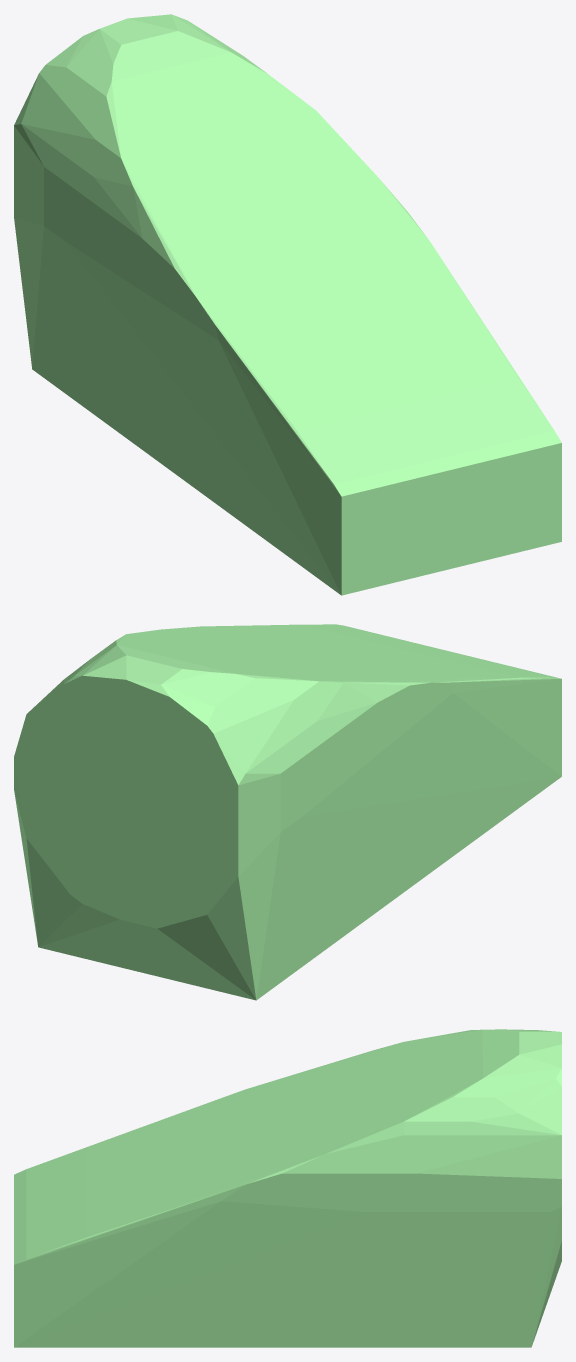
File: dvkr_robot_L_link1_respondable_coll_1.dae
3 renders of one model, top to bottom at view 1: azimuth 30°, elevation 25°; view 2: azimuth 150°, elevation 25°; view 3: azimuth 270°, elevation 25°, orthographic. The views are drawn at different scales.
Visible parts, largest first — view 1: Node_0000023514CD6E10; view 2: Node_0000023514CD6E10; view 3: Node_0000023514CD6E10.
Boxes of the visible parts, <box> form: Node_0000023514CD6E10: <box>14,14,561,595</box>; Node_0000023514CD6E10: <box>14,624,561,1000</box>; Node_0000023514CD6E10: <box>14,1029,561,1347</box>.
Bounding box in the file's own units: 0.1435 × 0.1822 × 0.3488.
